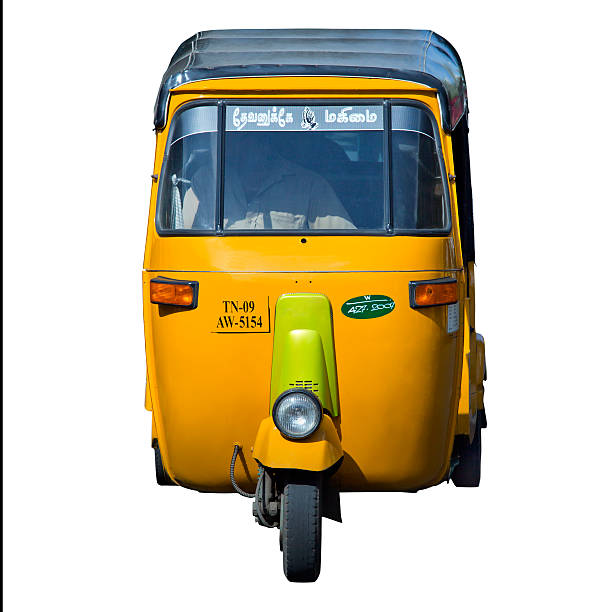threewheel: (141, 29, 487, 582)
